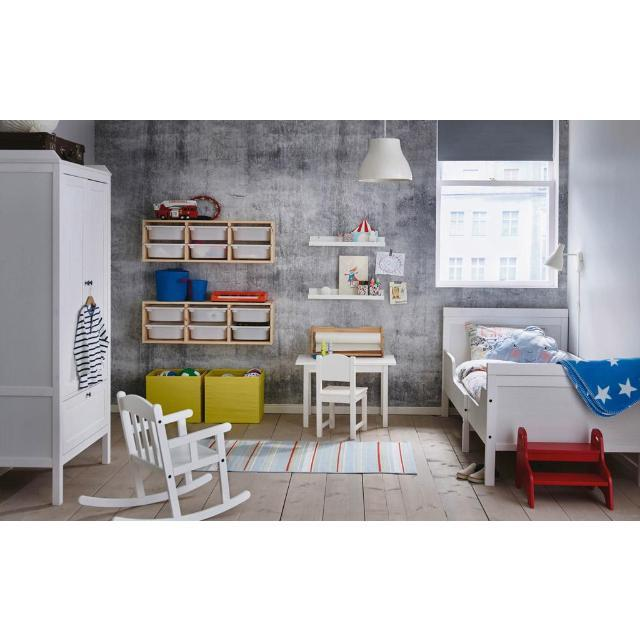bed: (441, 306, 640, 486)
chair: (79, 390, 250, 520), (316, 354, 368, 440)
curtain: (438, 119, 554, 160)
dresser: (0, 149, 110, 503)
lamp: (544, 243, 582, 271)
light: (359, 119, 412, 181)
rug: (225, 439, 416, 473)
shelf: (141, 219, 275, 262), (141, 300, 275, 343)
table: (295, 353, 396, 427)
